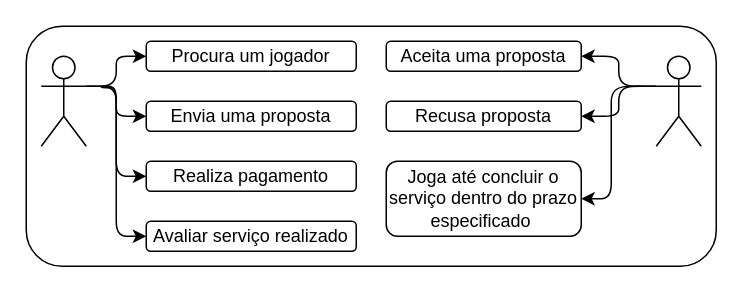
Image size: 743x293. Some labels were removed from this diagram. Each missing label, with the box of its shape:
Cliente: (40, 55, 86, 146)
Jogador: (655, 55, 701, 146)
